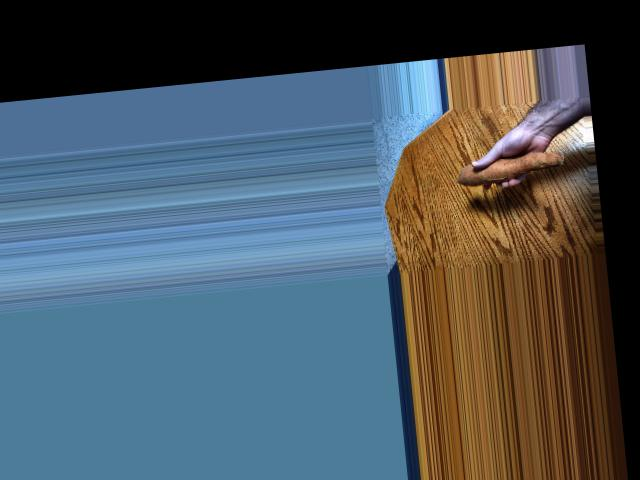sweet_potato: (448, 143, 568, 188)
